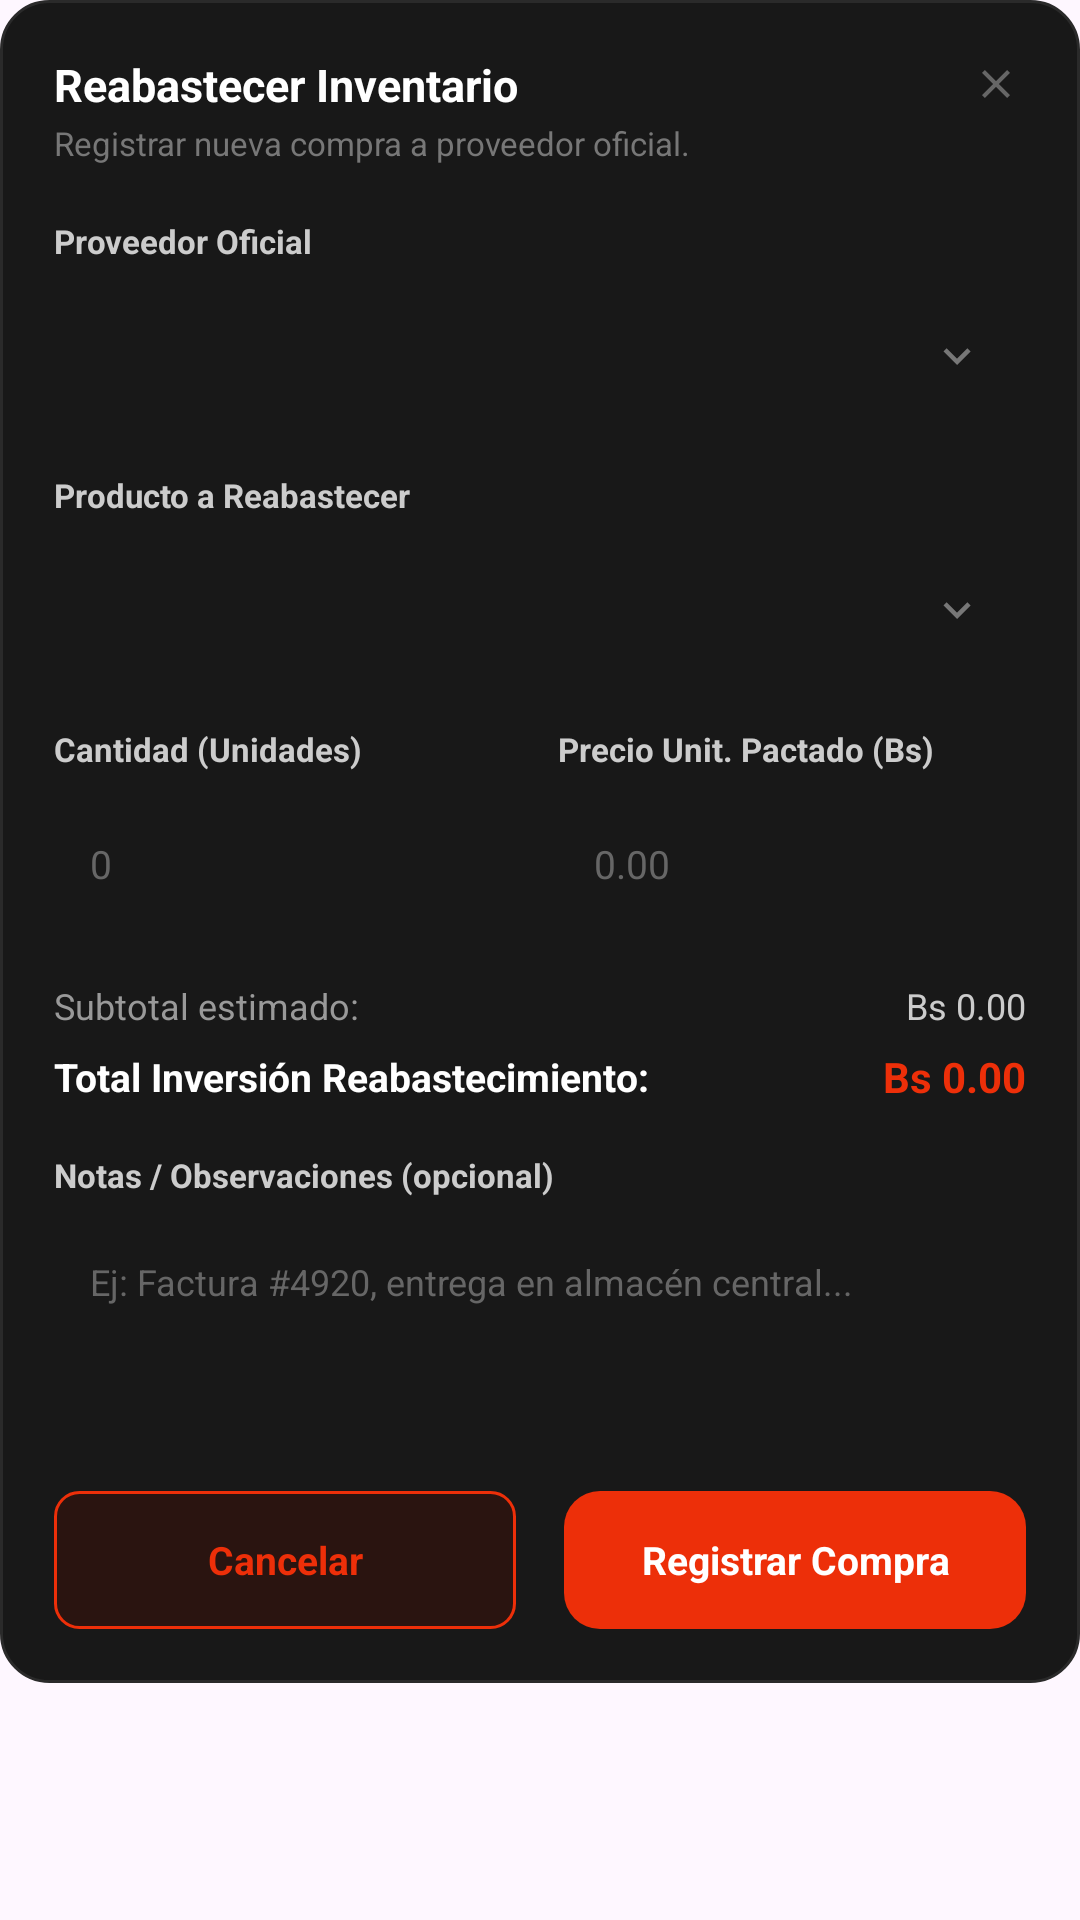

Screen size 1080 x 1920. Icon name, then its center in pixels as (x,y):
Cerrar: (996,84)
chevron down: (957,356), (957,610)
